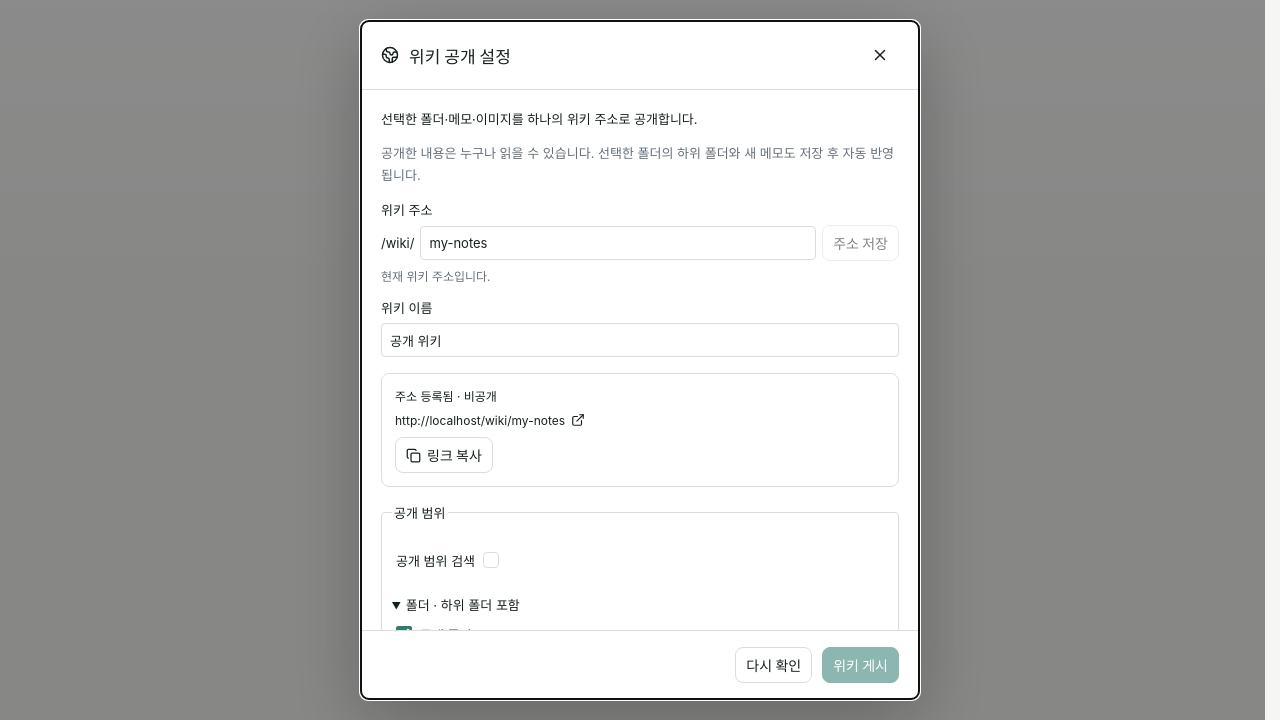
workspace wiki publication dialog › blocks reserved and taken addresses without granting publication
The width and height of the screenshot is (1280, 720).
Replace the text in the field labelled "위키 주소" with "admin": (618, 243) [420, 226, 816, 260]
(page scrolled)
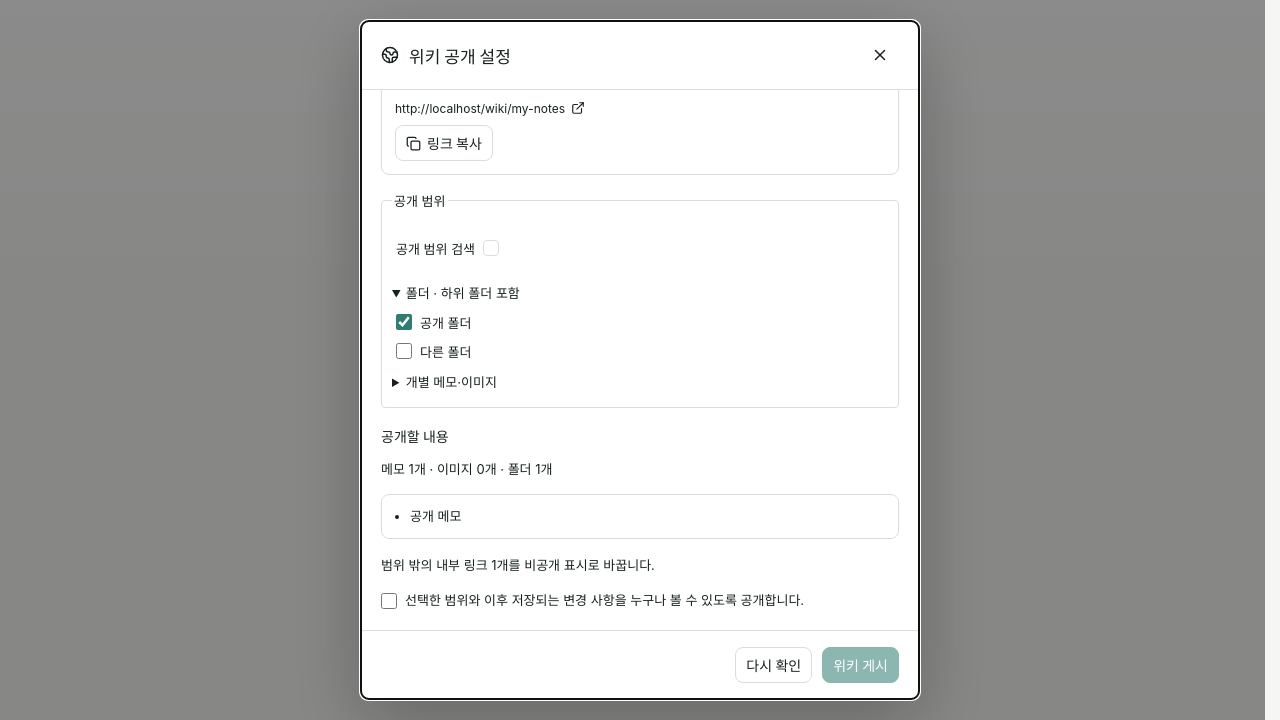
Click the checkbox labelled "선택한 범위와 이후 저장되는 변경 사항을 누구나 볼 수 있도록 공개합니다.": (389, 601) [381, 593, 397, 609]
(page scrolled)
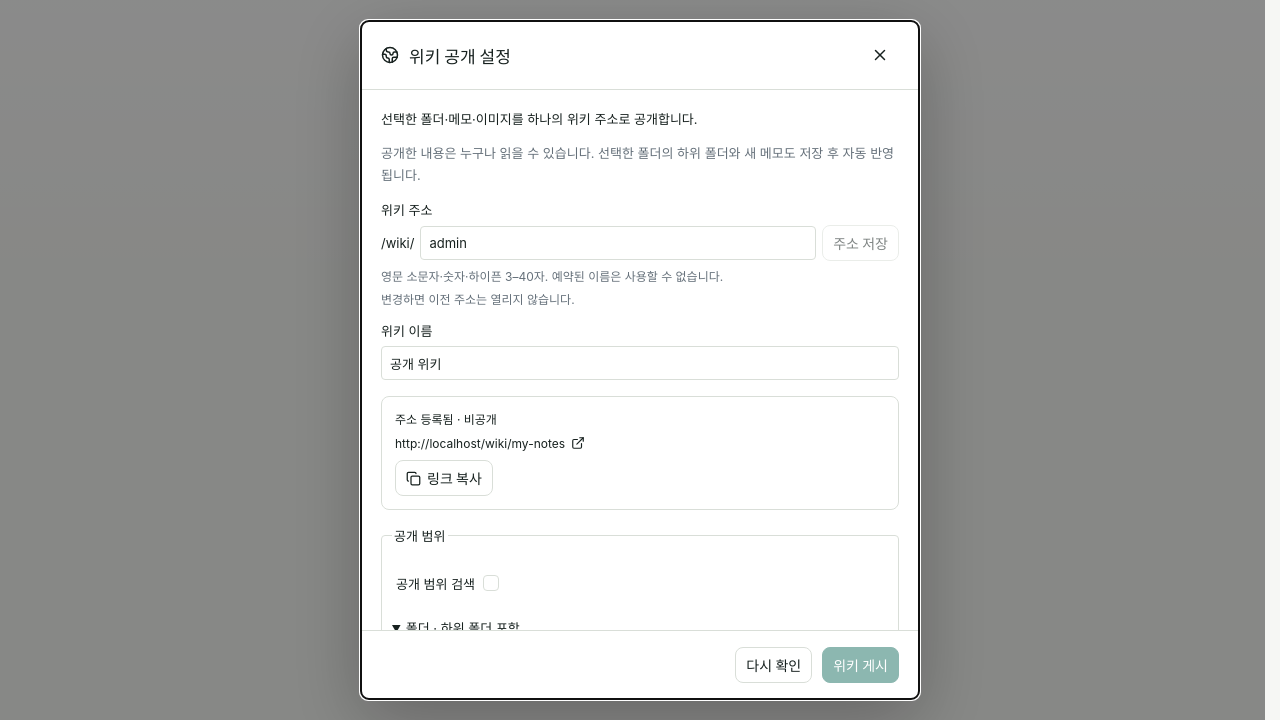
Check: the button "위키 게시" is disabled, box [822, 647, 899, 683]
Replace the text in the field labelled "위키 주소" with "claimed-root": (618, 243) [420, 226, 816, 260]
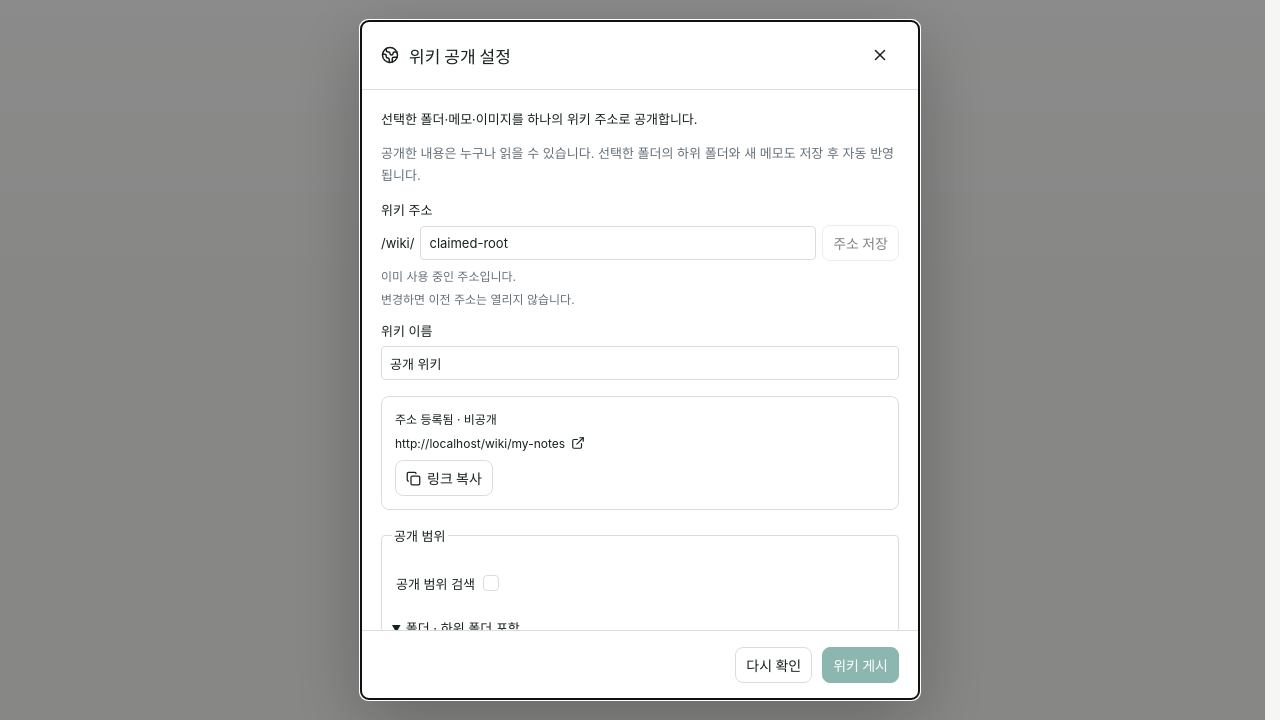
Check: the button "주소 저장" is disabled, box [822, 225, 899, 261]
Check: the text "이미 사용 중인 주소입니다." is shown, box [381, 269, 516, 284]
